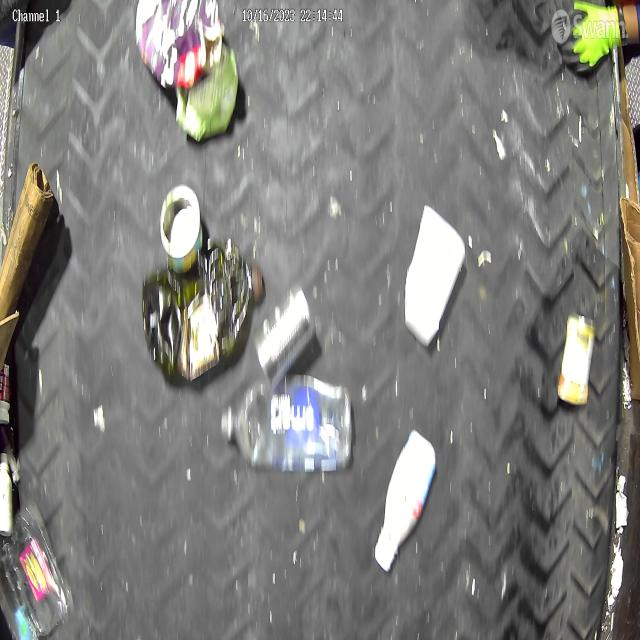can: (259, 286, 314, 381), (161, 185, 203, 272), (558, 312, 594, 410)
plastic_bottle: (142, 243, 266, 380), (222, 377, 354, 476)
